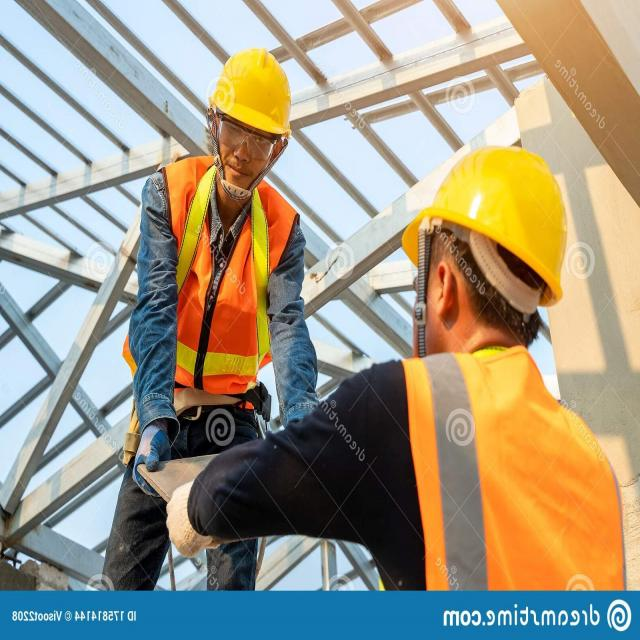Reflective-Jacket: (396, 338, 622, 590), (154, 161, 296, 403)
Safety-Helmet: (401, 139, 574, 302), (206, 43, 297, 138)
